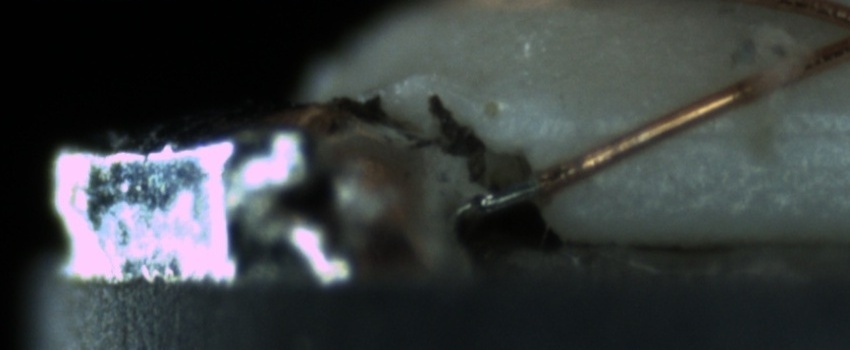DL: (562, 101, 849, 163)
TS: (472, 170, 543, 212)
